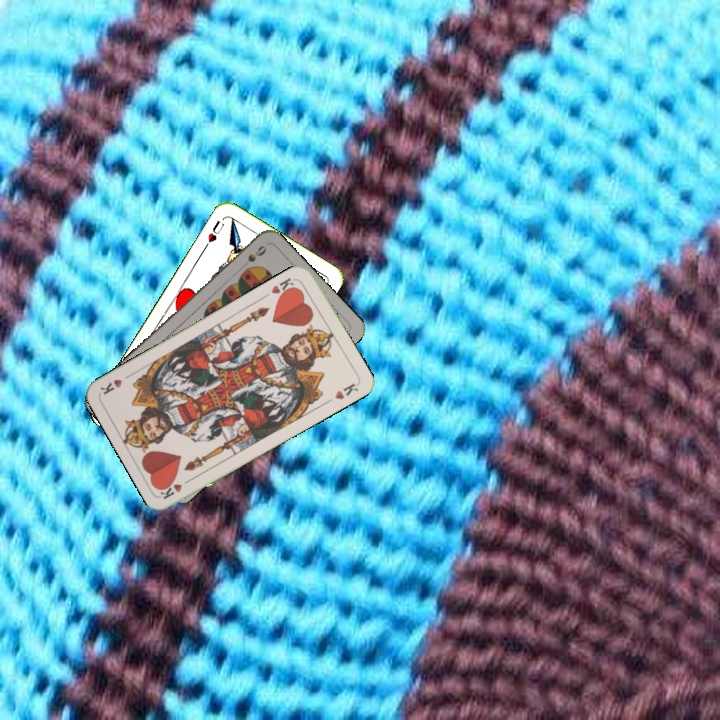HK: (156, 474, 196, 502), (267, 274, 299, 300)
HU: (200, 216, 227, 251)
S9: (236, 241, 269, 273)
